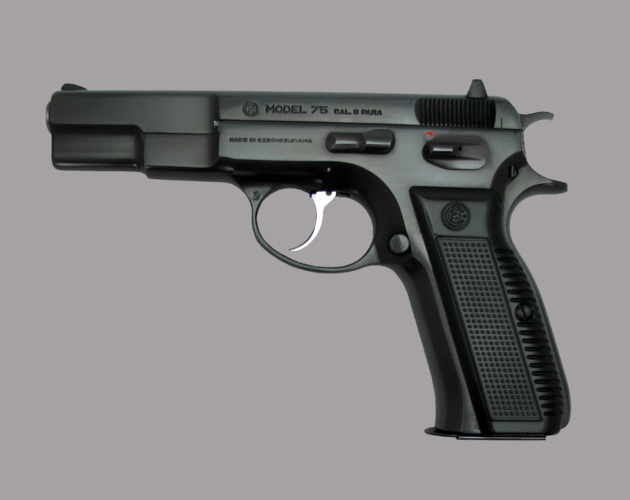Arma Real: (44, 78, 586, 445)
